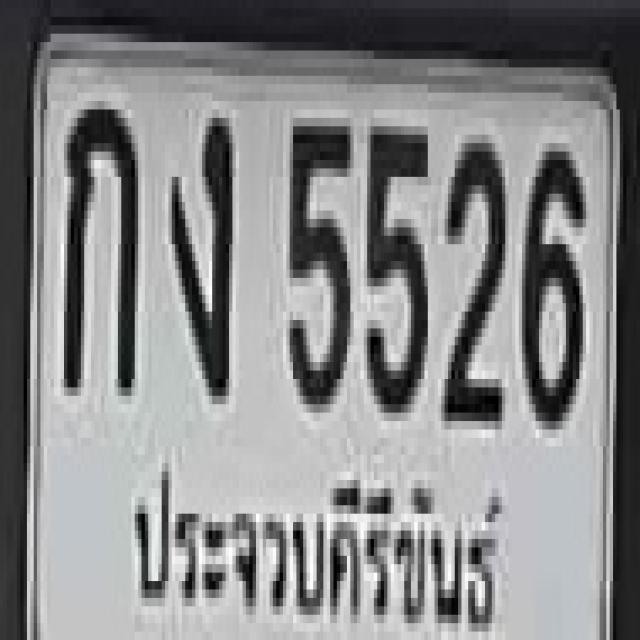2: (441, 134, 502, 412)
5: (286, 118, 347, 404), (364, 118, 424, 404)
6: (518, 143, 582, 421)
A01: (60, 101, 134, 387)
A07: (168, 109, 229, 396)
PKN: (124, 458, 504, 640)
